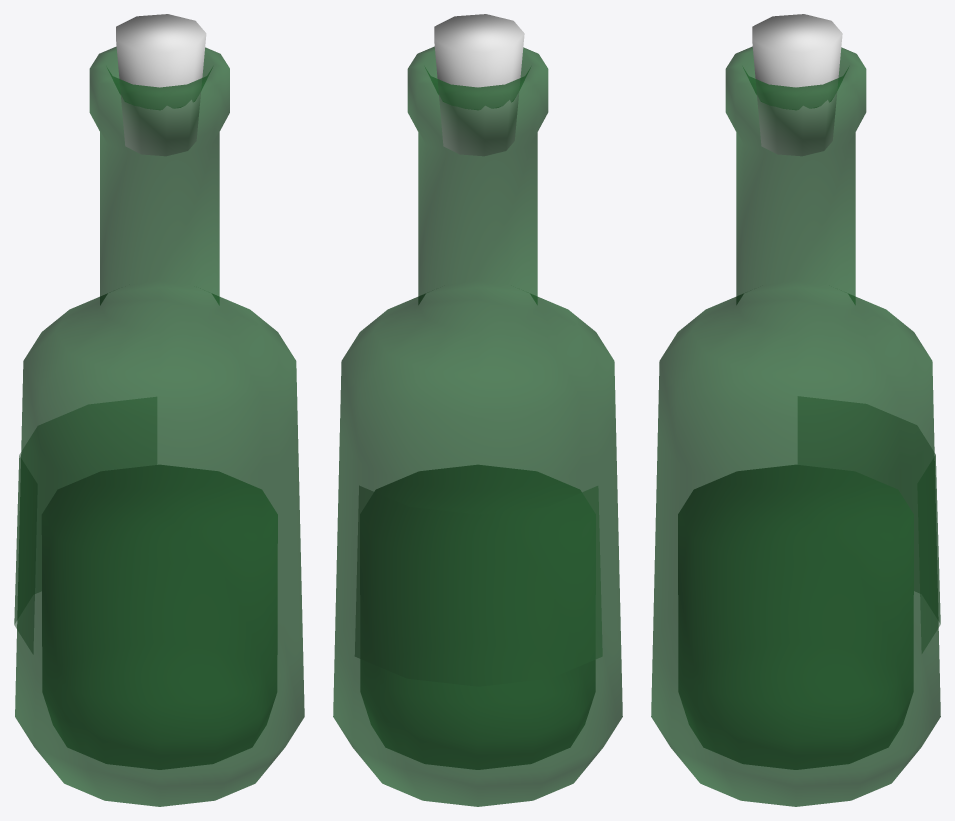
File: Bottle.fbx
3 renders of one model, left to right at view 1: azimuth 30°, elevation 25°; view 2: azimuth 150°, elevation 25°; view 3: azimuth 270°, elevation 25°, orthographic.
Visible parts, largest first — view 1: Cylinder, Cylinder.001, Cylinder.002, Cylinder.003; view 2: Cylinder, Cylinder.001, Cylinder.003, Cylinder.002; view 3: Cylinder, Cylinder.001, Cylinder.002, Cylinder.003.
Boxes of the visible parts, box(x1,y1,x2,y2) form: Cylinder: box(15, 46, 304, 806); Cylinder.001: box(42, 465, 277, 769); Cylinder.002: box(116, 14, 206, 156); Cylinder.003: box(14, 452, 37, 654); Cylinder: box(333, 46, 622, 806); Cylinder.001: box(360, 465, 595, 769); Cylinder.003: box(354, 485, 602, 686); Cylinder.002: box(434, 14, 524, 156); Cylinder: box(651, 46, 940, 806); Cylinder.001: box(678, 465, 913, 769); Cylinder.002: box(752, 14, 842, 156); Cylinder.003: box(917, 453, 940, 653).
Size of the model in its own units: 61.66 by 171 by 61.64.
